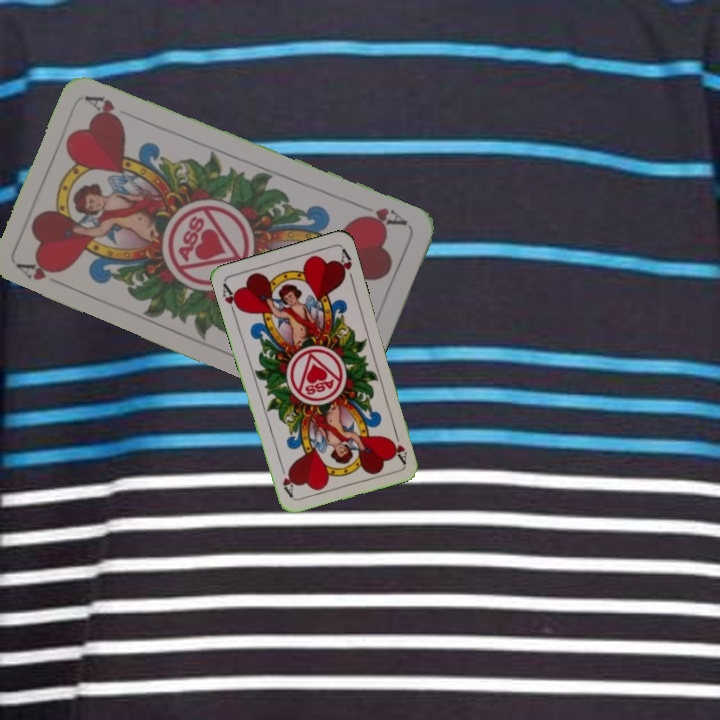HA: (354, 200, 410, 230), (14, 255, 66, 283), (218, 280, 244, 319), (388, 425, 410, 466)
